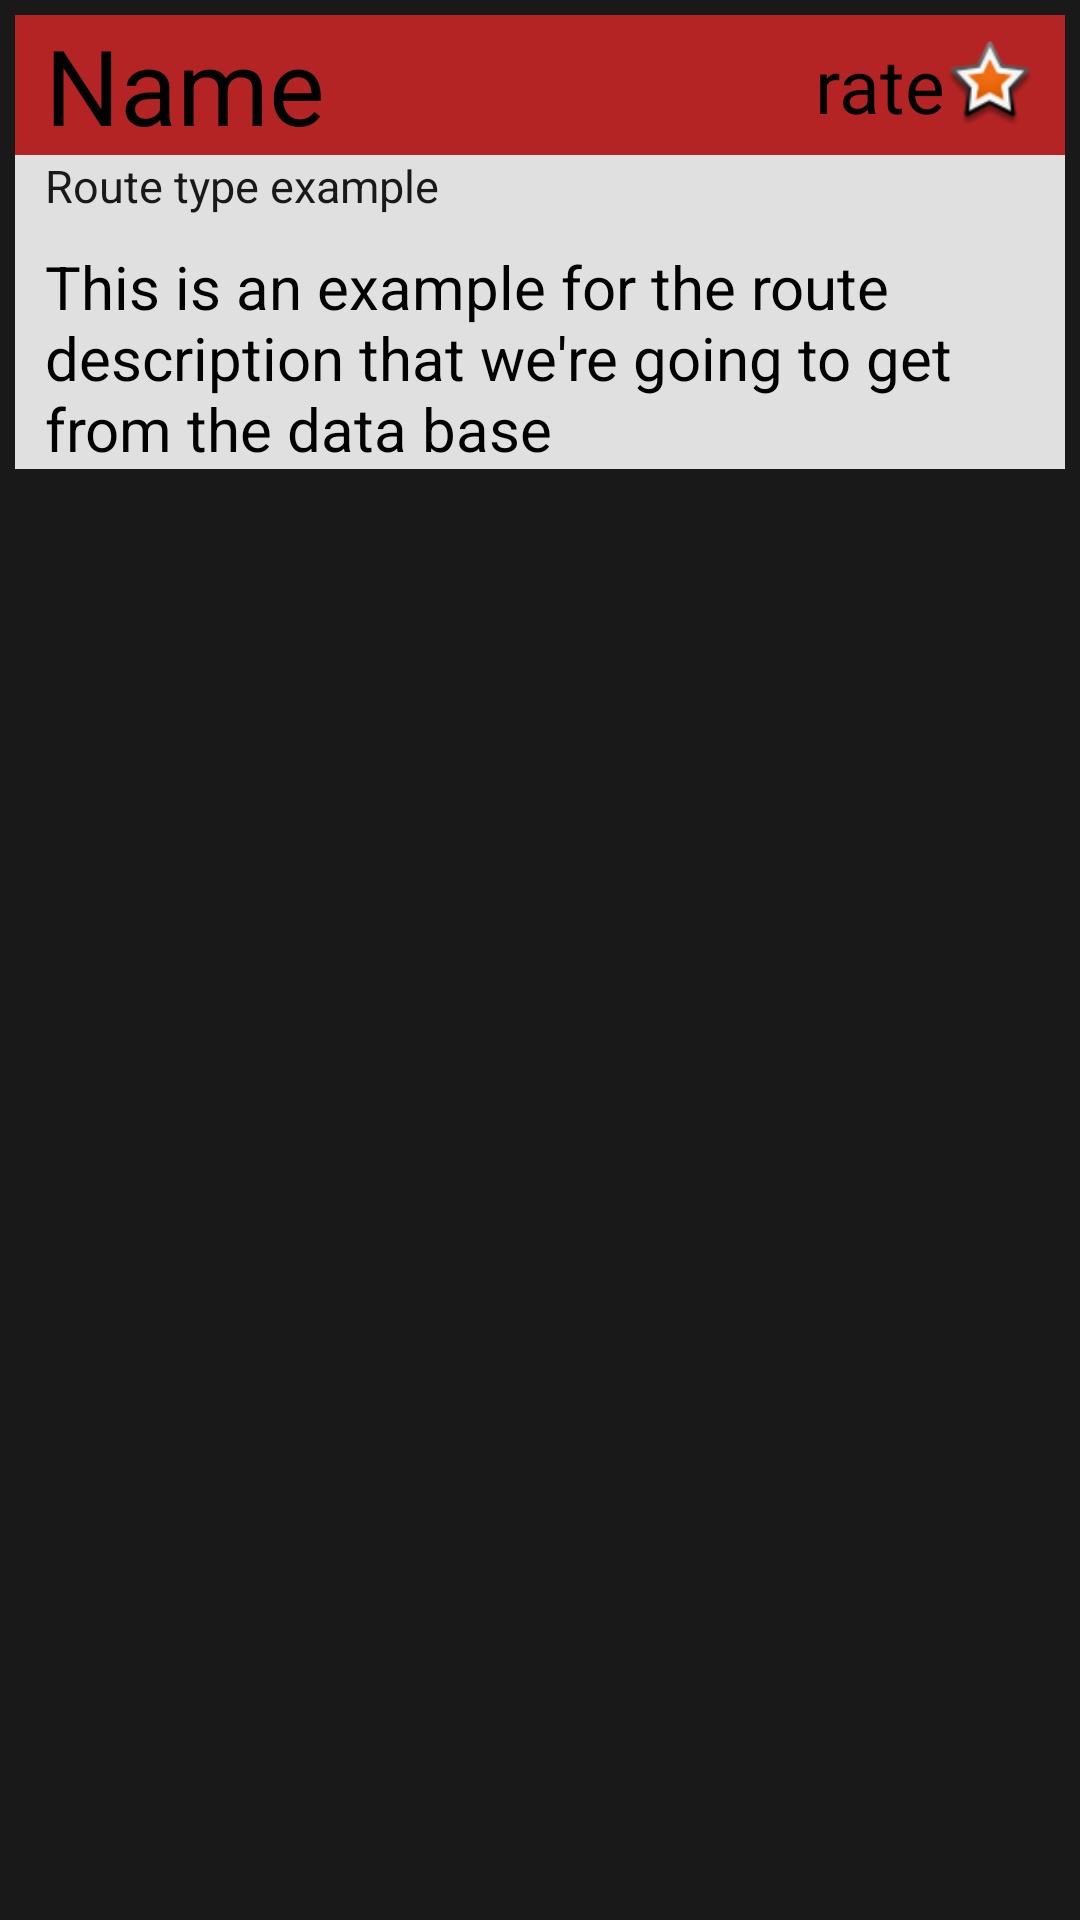

Screen size 1080*1920. Icon name, then its box in pixels as bbox=(x1, y1, x2, y2):
star img: bbox=(950, 41, 1030, 122)
